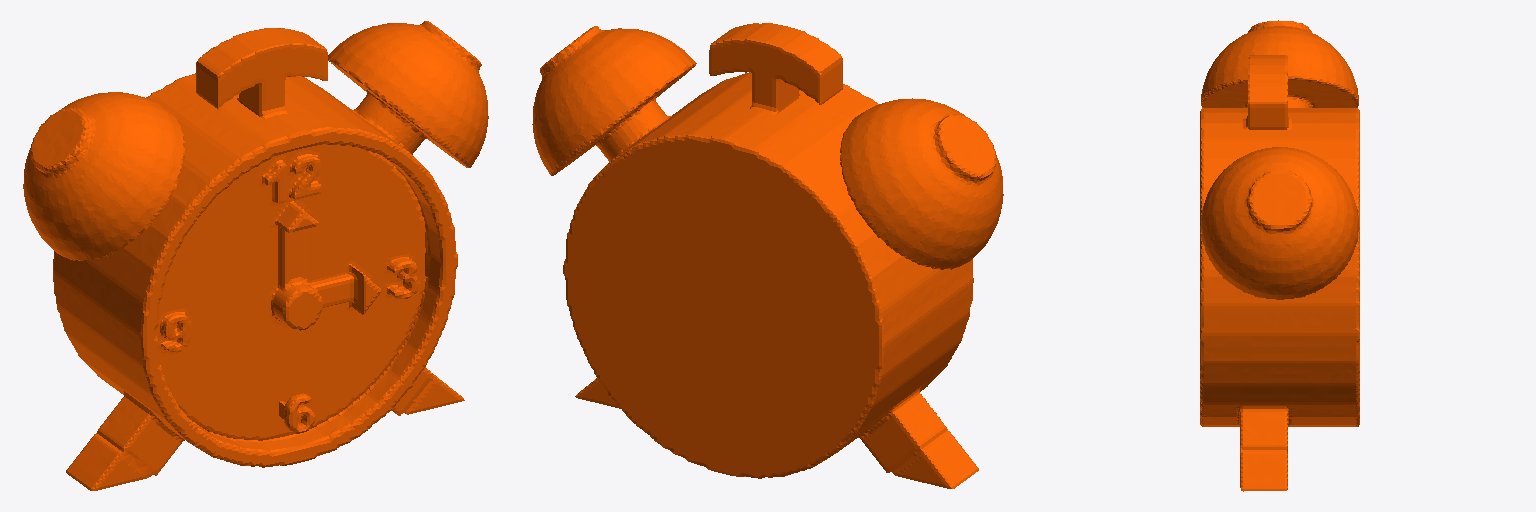
robot.urdf — alarmclock:
<?xml version="1.0" ?>
<robot name="alarmclock">
   <material name="obj_color">
      <color rgba="1.0 0.423529411765 0.0392156862745 1.0"/>
   </material>
   <link name="top">
      <inertial>
         <origin rpy="0.0005018211509389156 0.0005724392192627723 0.0009171405250417188" xyz="-0.0001641159025898387 0.001860268752782604 -0.003062034363526848"/>
         <mass value="0.6172142191327126"/>
         <inertia ixx="0.0005018247377907983" ixy="4.27464023782681e-07" ixz="-4.652207619172421e-07" iyy="0.0009170338231689301" iyz="6.051727038657354e-06" izz="0.0005725423342836785"/>
      </inertial>
      <visual>
         <origin rpy="0 0 0" xyz="0 0 0"/>
         <geometry>
            <mesh filename="top_watertight_tiny.stl" scale="1 1 1"/>
         </geometry>
         <material name="obj_color"/>
      </visual>
      <collision>
         <origin rpy="0 0 0" xyz="0 0 0"/>
         <geometry>
            <mesh filename="top_watertight_tiny.obj" scale="1 1 1"/>
         </geometry>
      </collision>
   </link>
   <link name="bottom">
      <inertial>
         <origin rpy="1.633333333194242e-08 1.633333333194243e-08 1.633333333357667e-08" xyz="0.3464080000000008 0.3464080000000008 0.3464080000000008"/>
         <mass value="0.0009800000000000017"/>
         <inertia ixx="1.633333333248717e-08" ixy="5.447480642029219e-19" ixz="5.447480642029219e-19" iyy="1.633333333248717e-08" iyz="5.447480642029219e-19" izz="1.633333333248717e-08"/>
      </inertial>
      <visual>
         <origin rpy="0 0 0" xyz="0 0 0"/>
         <geometry>
            <mesh filename="bottom_watertight_tiny.stl" scale="1 1 1"/>
         </geometry>
         <material name="obj_color"/>
      </visual>
   </link>
   <joint name="rotation" type="revolute">
      <origin xyz="0 0 0"/>
      <axis xyz="0 0 -1"/>
      <parent link="bottom"/>
      <child link="top"/>
      <dynamics damping="1.0" friction="1.0"/>
      <limit effort="0.1" velocity="0.1" lower="0" upper="0.001"/>
   </joint>
</robot>

--- Facts derived from the render (not from the file) ---
3 views of the same robot in one strip: view 1: azimuth 30°, elevation 25°; view 2: azimuth 150°, elevation 25°; view 3: azimuth 270°, elevation 25° (orthographic).
Model alarmclock with 2 links and 1 joints (1 revolute), rooted at bottom, posed all joints at 0.
Links seen in each view (by area): view 1: top; view 2: top; view 3: top.
Link boxes in pixels (<box>): top: <box>23,21,488,490</box>; top: <box>532,23,1003,488</box>; top: <box>1200,20,1359,491</box>.
Bounding box of the posed robot: 0.1257 × 0.0451 × 0.1082 m (x, y, z).
1 mesh visuals loaded from 2 distinct referenced files (1 binary STL); not drawn: 1 (reference not matched to a file when rendering).
